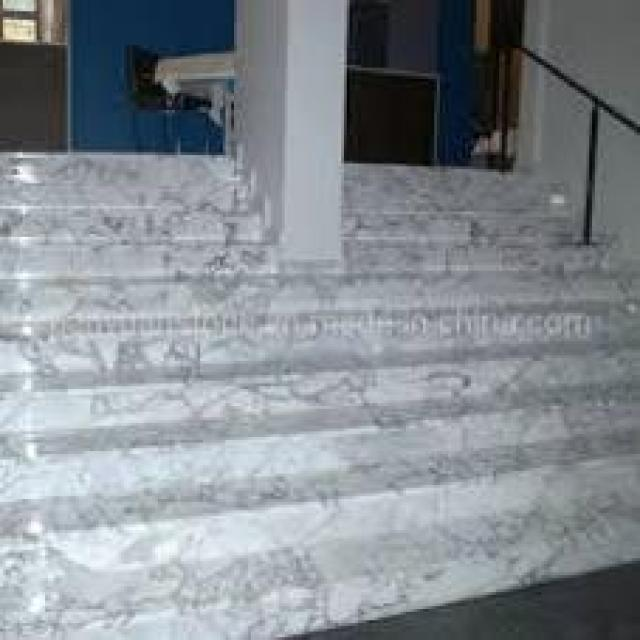upstair: (43, 278, 458, 529)
